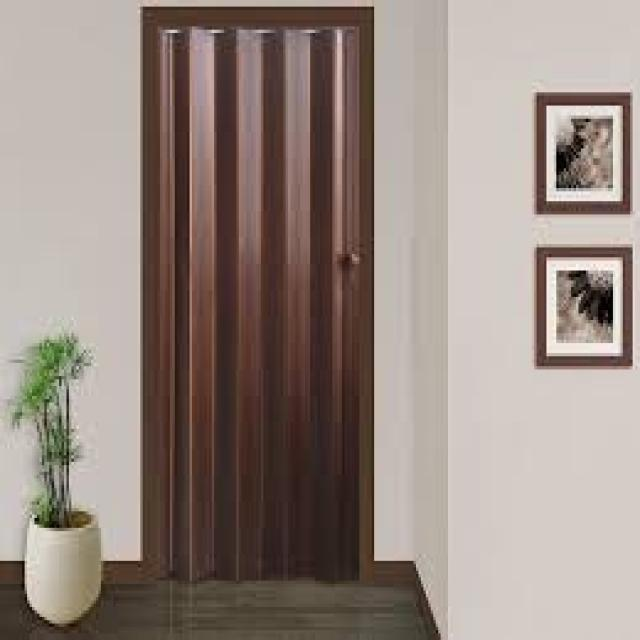door: (142, 7, 376, 584)
